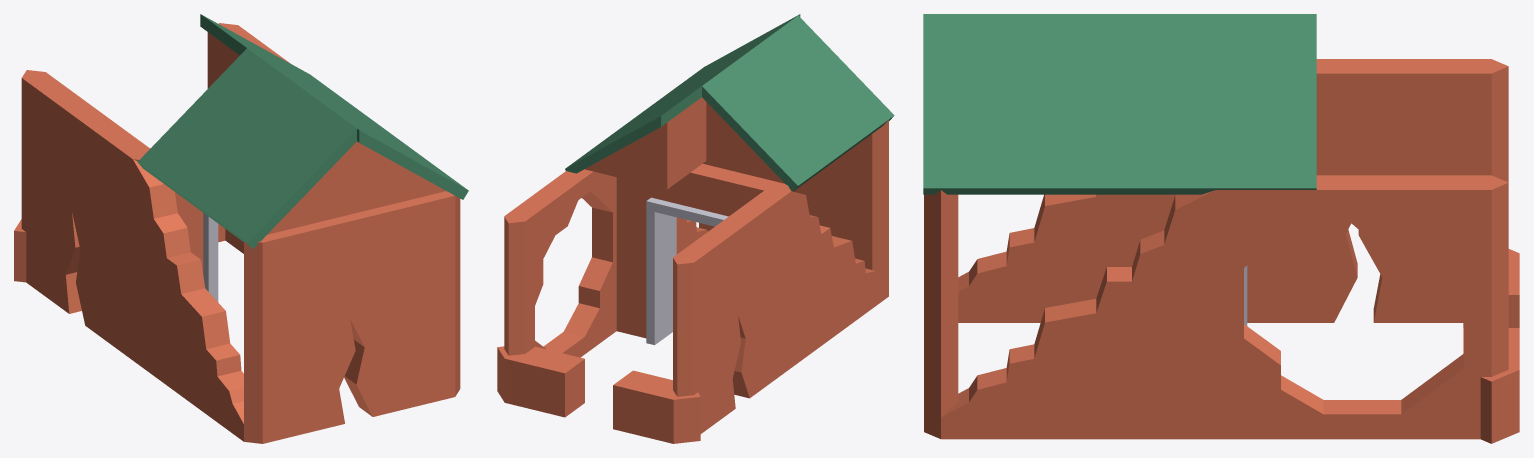
The model's file is Casa12SemiRota.FBX.
3 renders of one model, left to right at view 1: azimuth 30°, elevation 25°; view 2: azimuth 150°, elevation 25°; view 3: azimuth 270°, elevation 25°, orthographic. The views are drawn at different scales.
Visible parts, largest first — view 1: roof_half_66; view 2: roof_half_66; view 3: roof_half_66.
Boxes of the visible parts, <box> form: roof_half_66: <box>14,14,468,443</box>; roof_half_66: <box>497,14,894,443</box>; roof_half_66: <box>923,14,1519,443</box>.
Size of the model in its own units: 1205 by 1443 by 2168.
